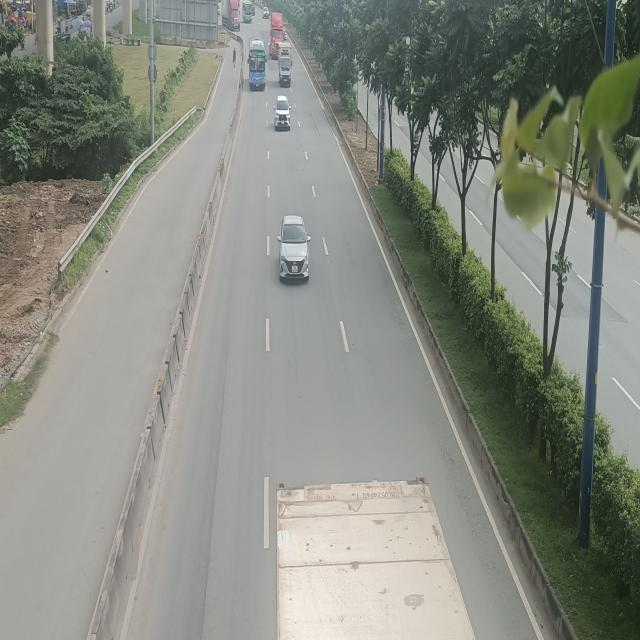car: (277, 216, 309, 283), (274, 94, 291, 132)
coach: (248, 38, 266, 91), (242, 1, 252, 22)
container: (268, 12, 283, 58), (222, 0, 240, 32)
truck: (278, 43, 292, 87)
